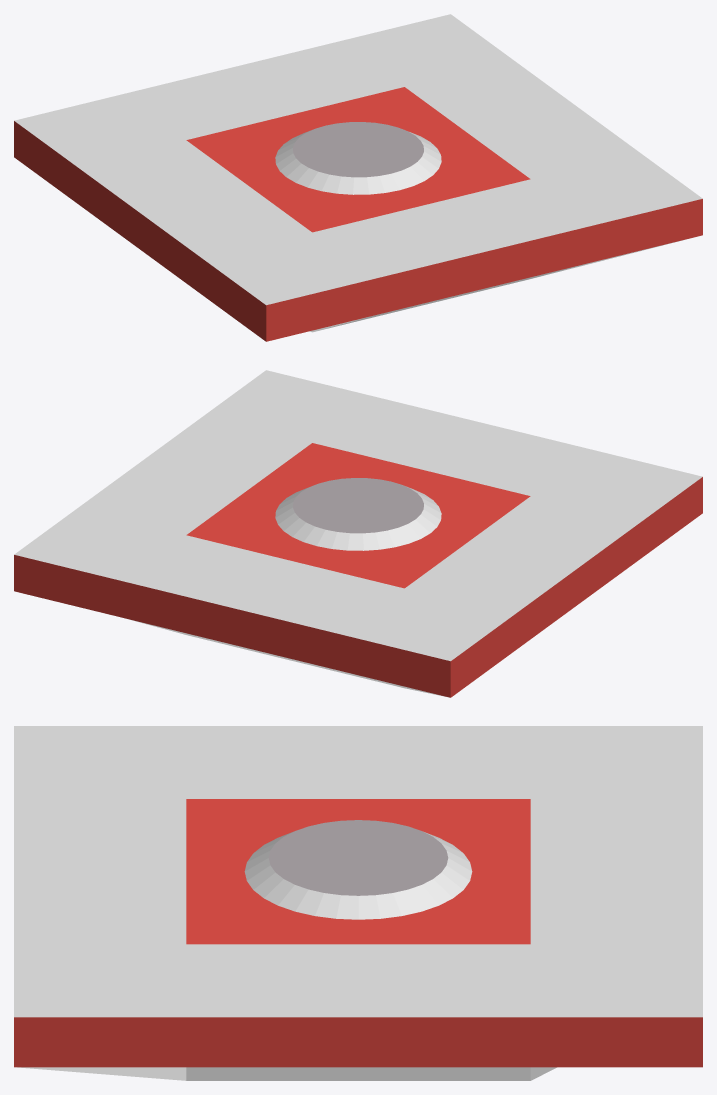
The model's file is jumpground.fbx.
3 views of the same model, one above another, from view 1: azimuth 30°, elevation 25°; view 2: azimuth 150°, elevation 25°; view 3: azimuth 270°, elevation 25° (orthographic). The views are drawn at different scales.
Parts seen in each view (by area): view 1: 큐브, Cylinder.001; view 2: 큐브, Cylinder.001; view 3: 큐브, Cylinder.001.
Part boxes in pixels (x1,y1,x2,y2): 큐브: (14,14,702,341); Cylinder.001: (275,122,441,194); 큐브: (14,370,702,697); Cylinder.001: (275,478,441,550); 큐브: (14,726,702,1080); Cylinder.001: (244,820,472,919).
Size of the model in its own units: 500 by 120 by 500.
